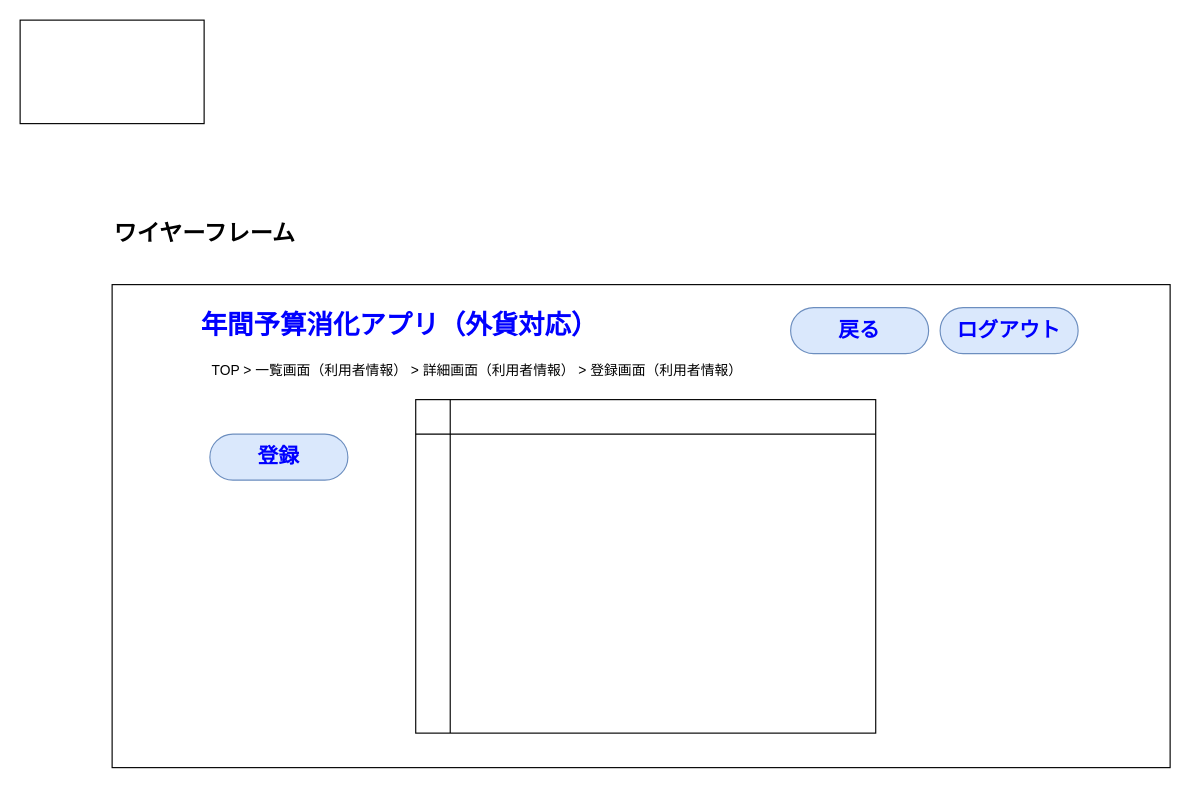
The diagram is 1190 pixels wide and 788 high, and some of its shapes have lost their labels. The centre of each missing label's shape, as x and y in pixels:
"入力フォーム" goes at (645,565).
"画面設計書" goes at (111,71).
